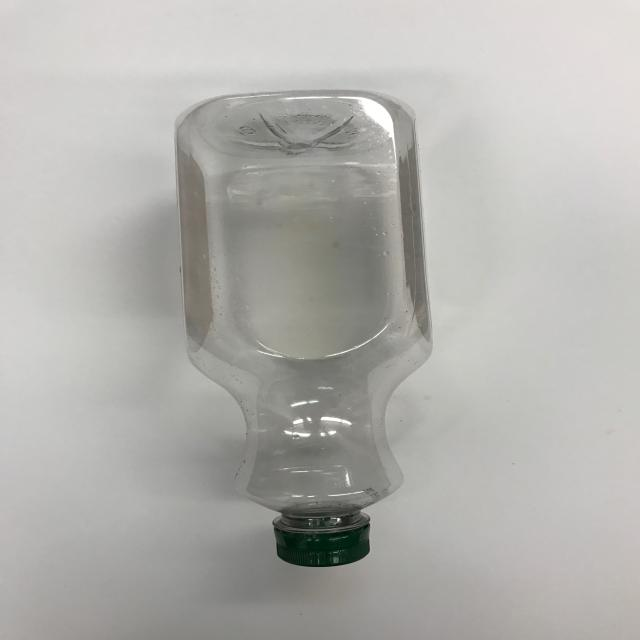plastic: (173, 88, 434, 563)
